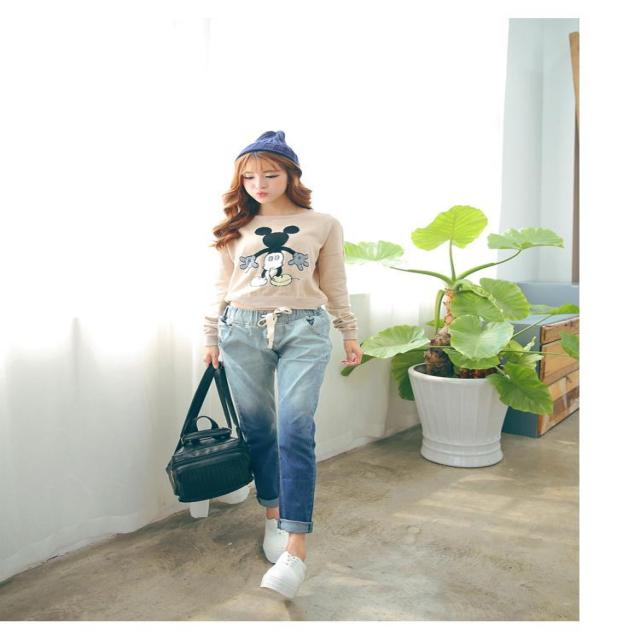long sleeve top: (206, 210, 358, 345)
trousers: (229, 306, 323, 533)
